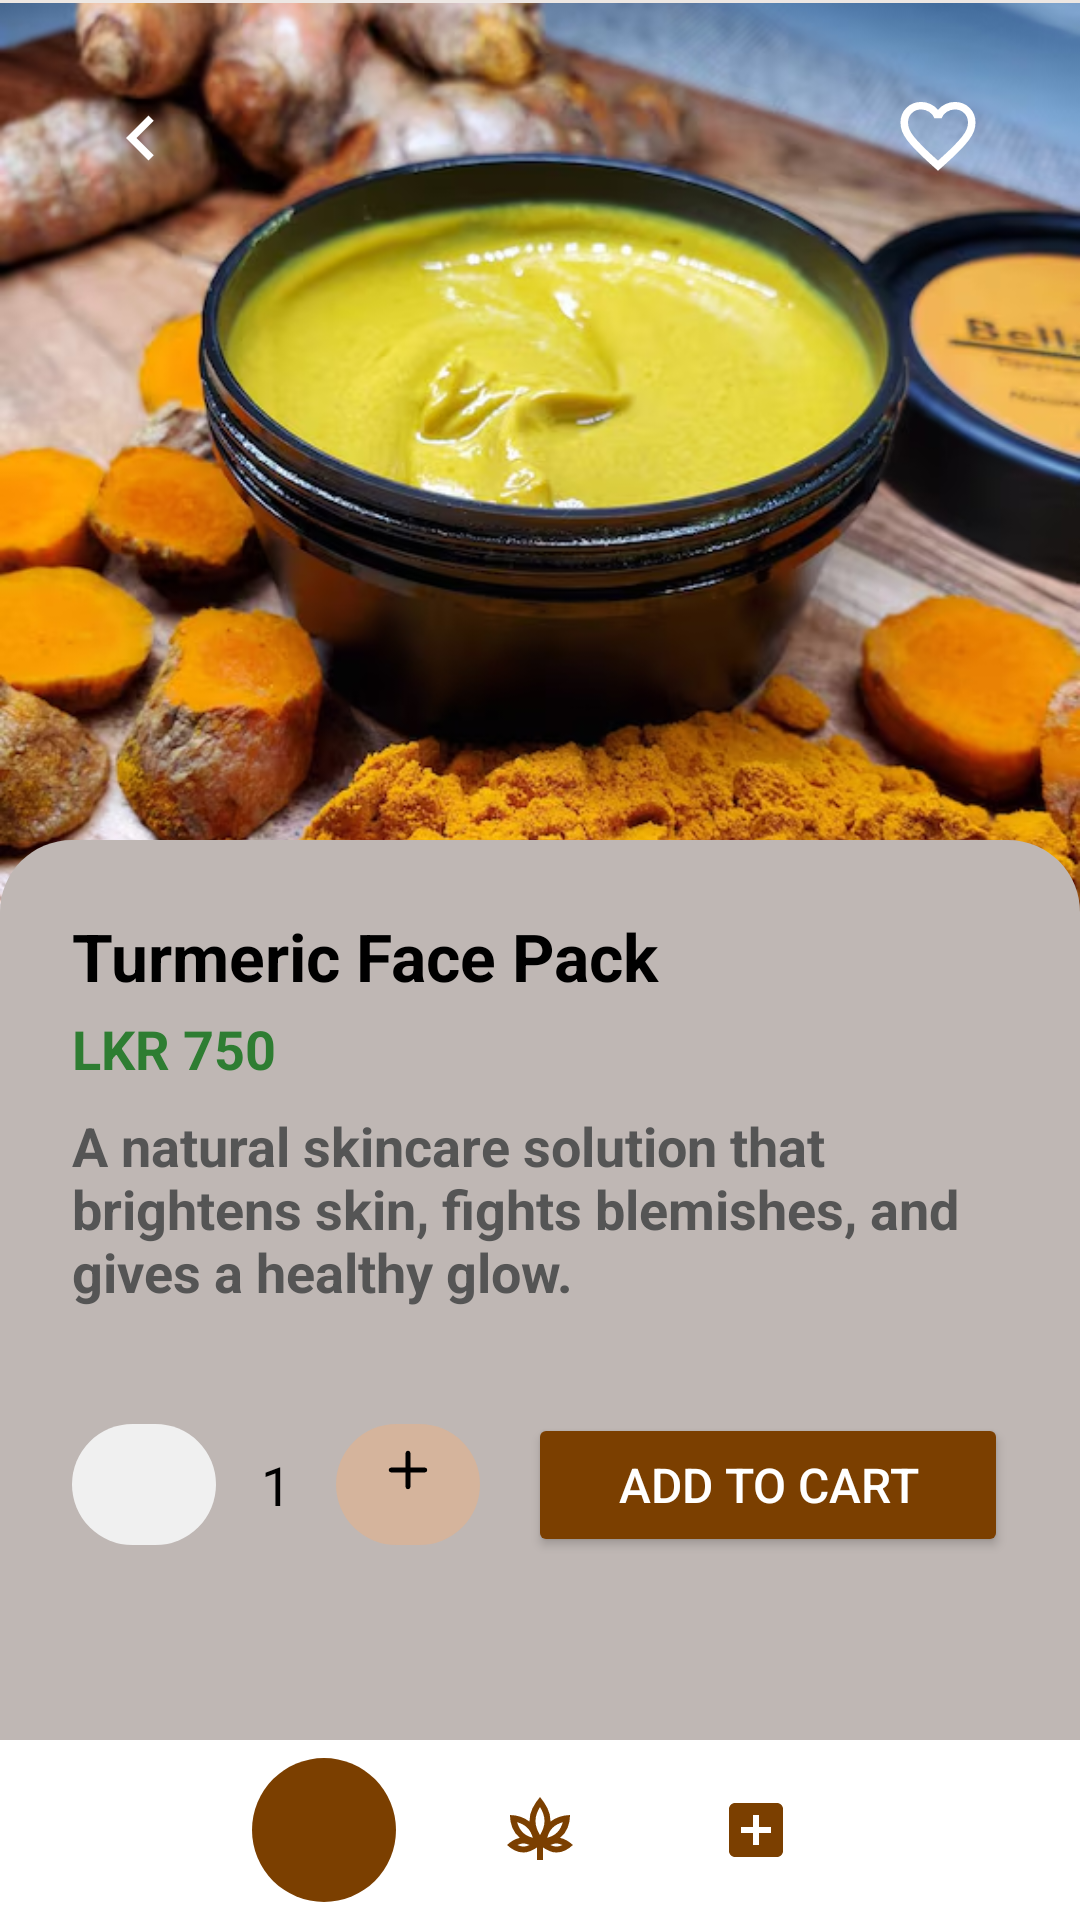

Named icons in this screenshot (1080px×1920px) and their bounding boxes, (x1, y1, x2, y2):
doctor: (729, 1803, 783, 1857)
Increase: (336, 1424, 480, 1545)
plant: (507, 1797, 573, 1860)
